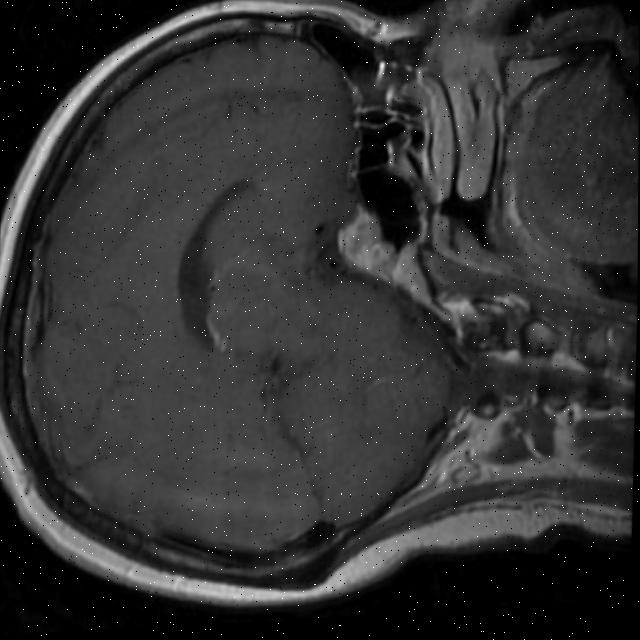Pituitary: (335, 196, 397, 273)
